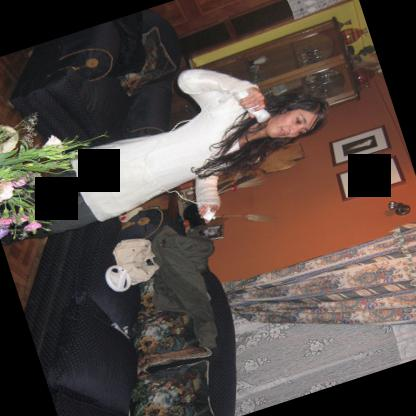handbag: (111, 238, 159, 286)
